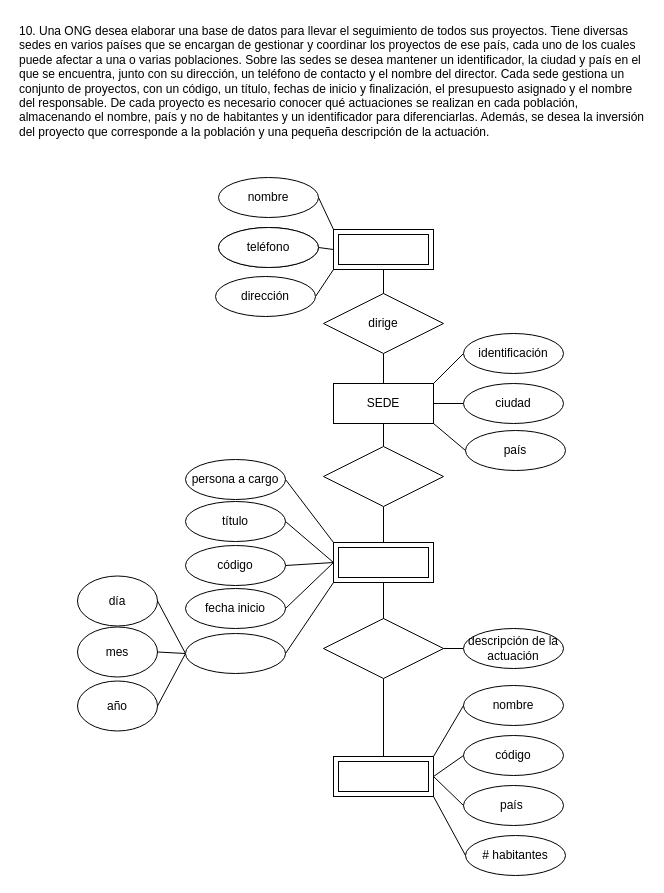
Image size: 664x893. Some labels were removed from this diagram. The shapes that lost their labels are listed below. From the top down, each one's box as (x1, y1, x2, y2) in pixels, then its label:
(332, 228, 434, 270): DIRECTOR
(322, 446, 444, 506): gestiona 1:n
(332, 542, 434, 582): PROYECTO
(184, 632, 286, 674): fecha fin
(322, 618, 444, 678): inversion n:N
(332, 756, 434, 796): POBLACIÓN
